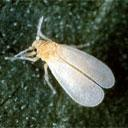whitefly: (7, 17, 115, 109)
